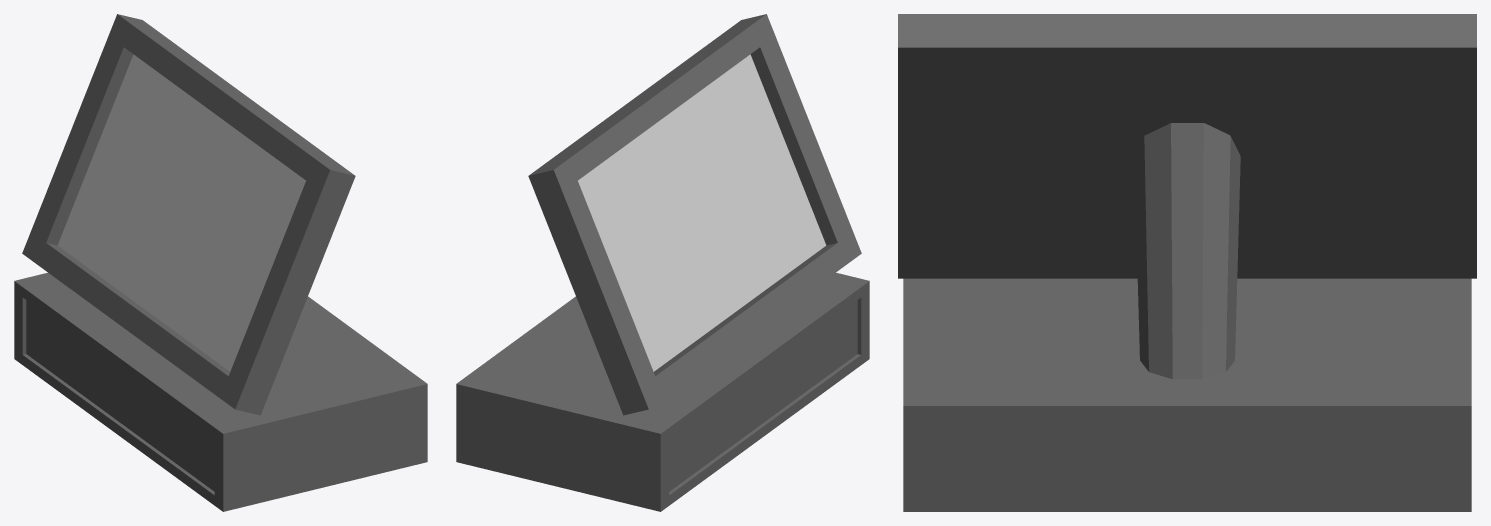
The model's file is fbx_hamburger_pos.fbx.
The picture shows the model from 3 angles, left to right: view 1: azimuth 30°, elevation 25°; view 2: azimuth 150°, elevation 25°; view 3: azimuth 270°, elevation 25°; orthographic projection. The views are drawn at different scales.
Parts seen in each view (by area): view 1: fbx_hamburger_pos; view 2: fbx_hamburger_pos; view 3: fbx_hamburger_pos.
Part boxes in pixels (left/top/right/bottom): fbx_hamburger_pos: left=14, top=14, right=427, bottom=511; fbx_hamburger_pos: left=456, top=14, right=869, bottom=511; fbx_hamburger_pos: left=898, top=14, right=1476, bottom=511.
Bounding box in the file's own units: 0.8991 × 1.33 × 1.62.
1 material, 1 textured.
